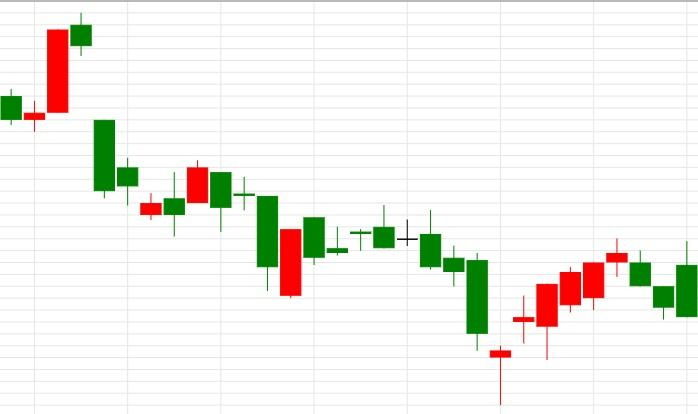evening_star_fall: (489, 239, 651, 405)
